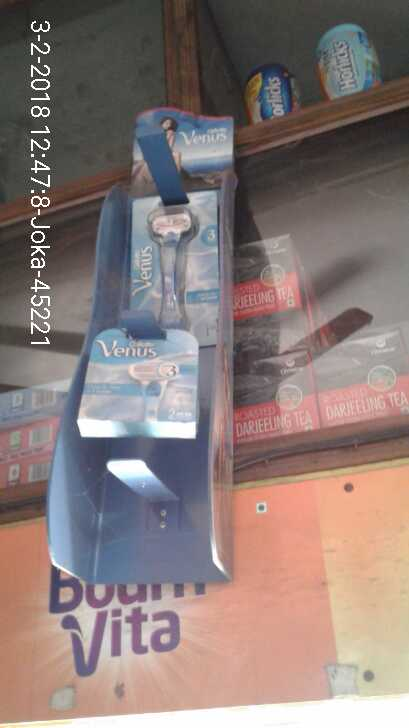venus: (114, 196, 214, 341), (81, 324, 194, 437)
